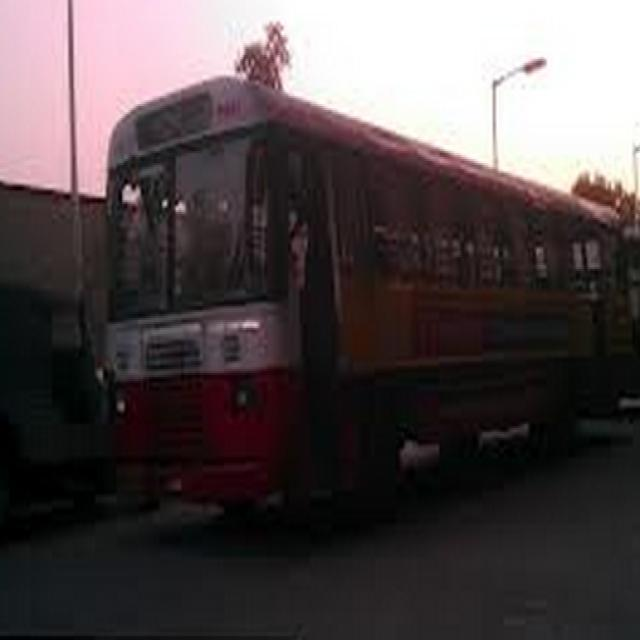bus_front: (94, 68, 624, 539)
